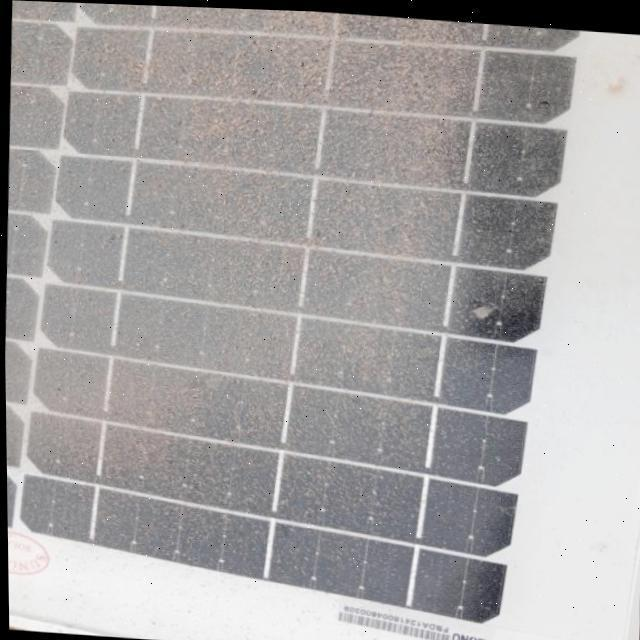Surface Contaminant: (4, 89, 565, 566)
